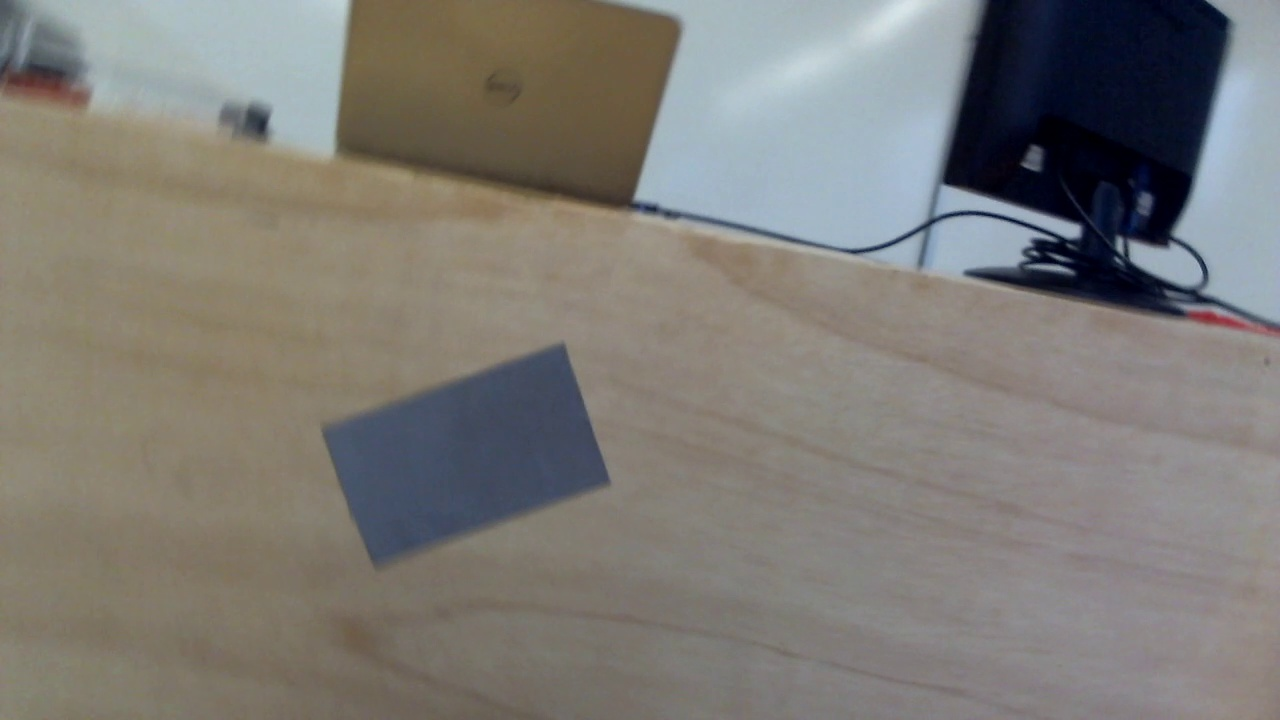Tape: (321, 345, 610, 573)
